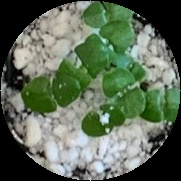Basil: (55, 40, 104, 94), (101, 67, 144, 120), (21, 76, 78, 115), (82, 99, 123, 142), (88, 20, 132, 59), (82, 0, 135, 28), (141, 88, 181, 122), (115, 56, 148, 76)
